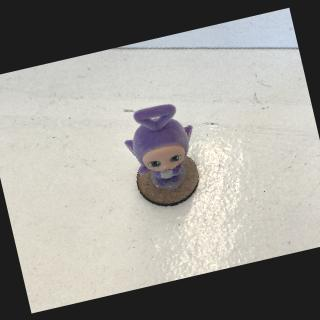teletubby: (124, 104, 192, 185)
